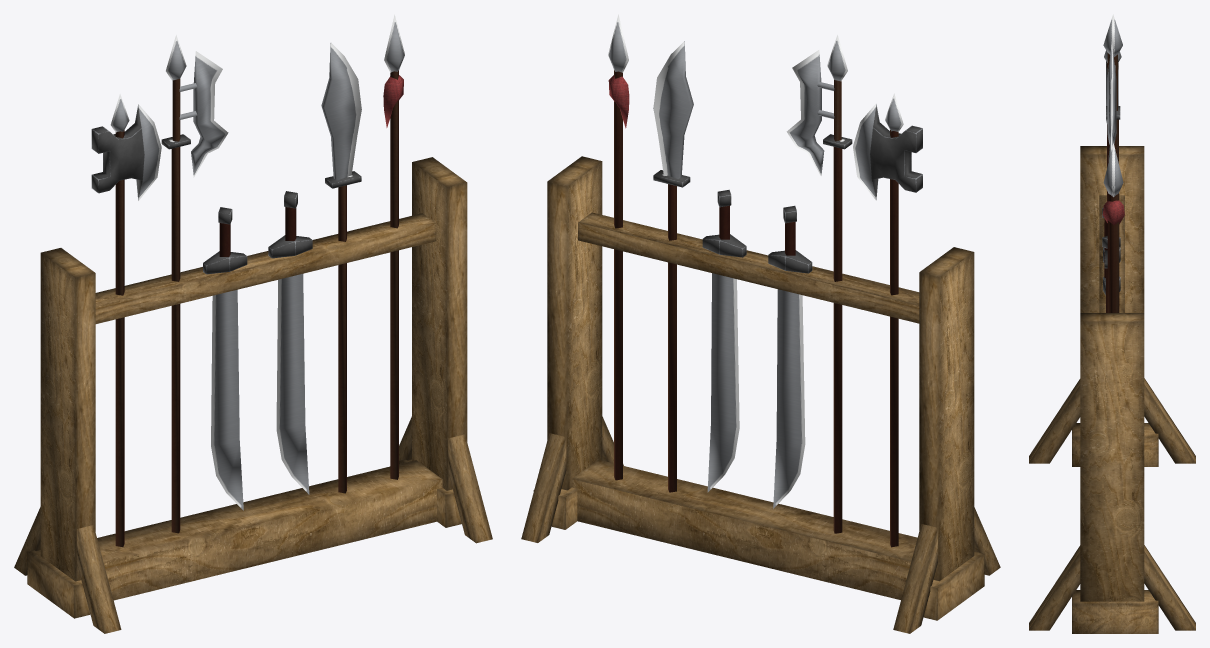
File: Weapon_3.FBX
The picture shows the model from 3 angles, left to right: view 1: azimuth 30°, elevation 25°; view 2: azimuth 150°, elevation 25°; view 3: azimuth 270°, elevation 25°; orthographic projection. The views are drawn at different scales.
Parts seen in each view (by area): view 1: Weapon_3; view 2: Weapon_3; view 3: Weapon_3.
Boxes of the visible parts, x1=… form: Weapon_3: x1=14, y1=14, x2=492, y2=633; Weapon_3: x1=521, y1=14, x2=1000, y2=633; Weapon_3: x1=1029, y1=14, x2=1195, y2=633.
Size of the model in its own units: 66.45 by 84.66 by 25.89.
